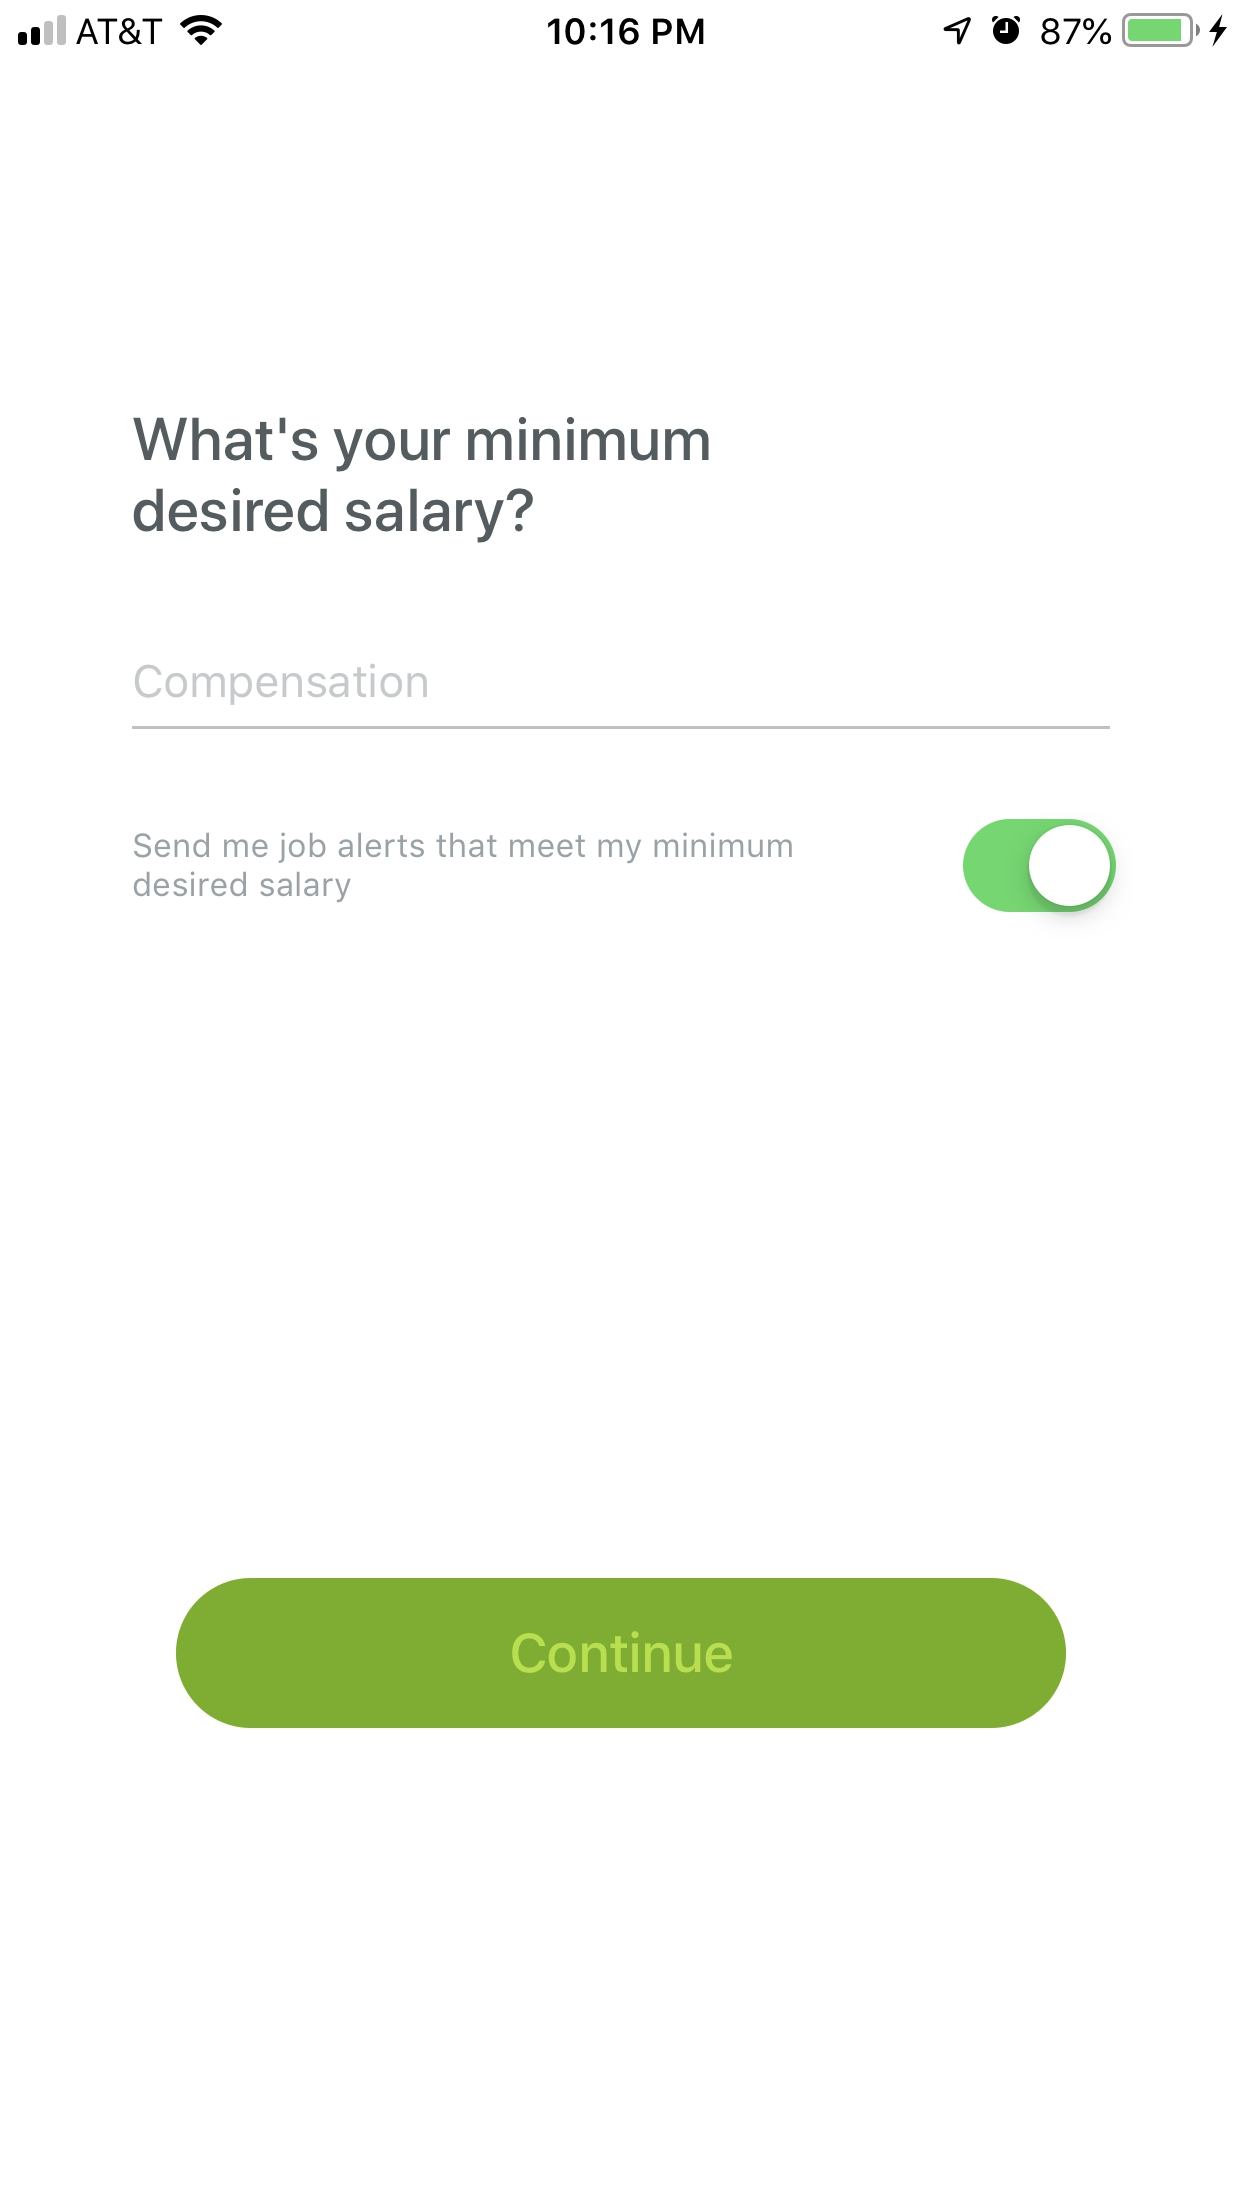EditText: (132, 664, 1112, 731)
Switch: (961, 817, 1118, 914)
Text: (133, 417, 710, 544), (133, 831, 795, 904), (135, 664, 428, 707)
TextButton: (176, 1577, 1068, 1729)
UpperTaskBar: (2, 2, 1242, 49)
